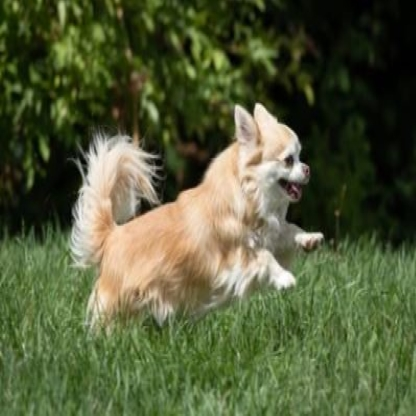chihuahua: (67, 100, 327, 329)
